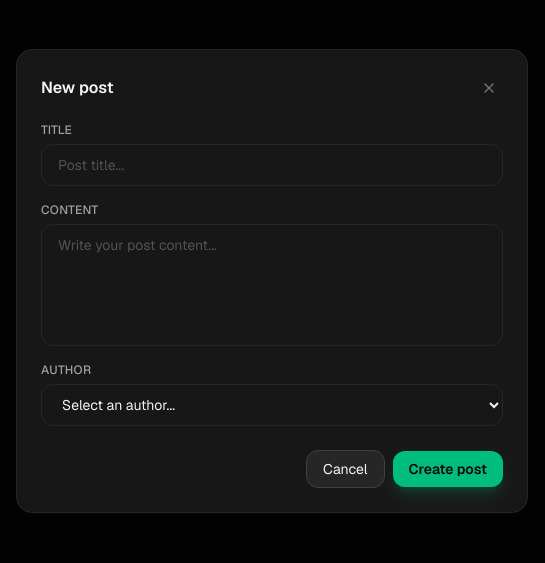
Test case: PostForm › shows validation errors when submitting empty form
This screenshot has width=545, height=563.
Click the button "Create post" at (448, 469), box [392, 451, 503, 487]
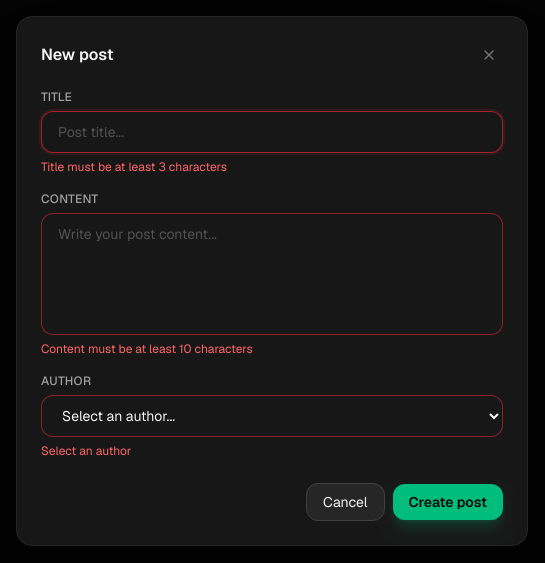
Now the text "Title must be at least 3 characters" is shown, box [41, 159, 227, 175]
Now the text "Content must be at least 10 characters" is shown, box [41, 341, 253, 357]
